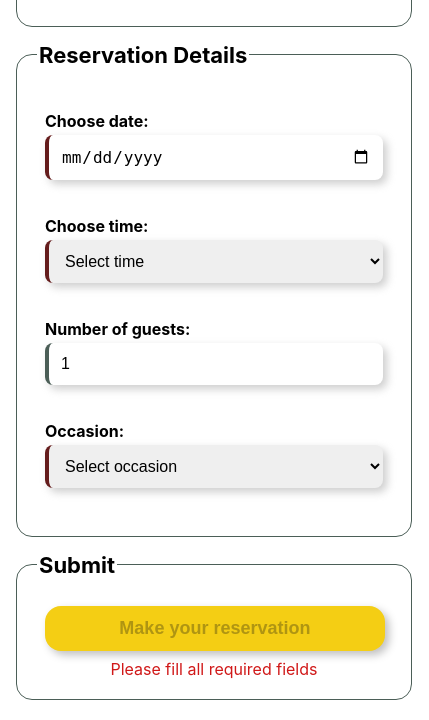
Test: Error fields › show error when no occasion is selected
(page scrolled)
Step 1. Select "Select occasion" in the dropdown labelled "Occasion:" → point(214, 466), box top-left (45, 445), bottom-right (383, 488)
Step 2. Leave the dropdown labelled "Occasion:", box top-left (45, 445), bottom-right (383, 488)
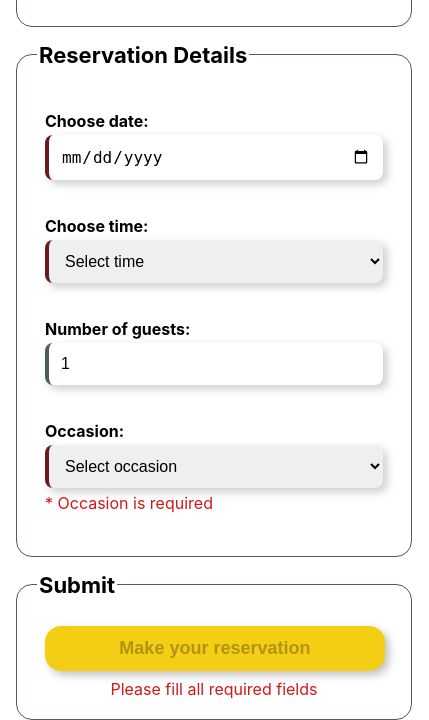
Now the text "* Occasion is required" is shown, box top-left (45, 493), bottom-right (213, 513)
